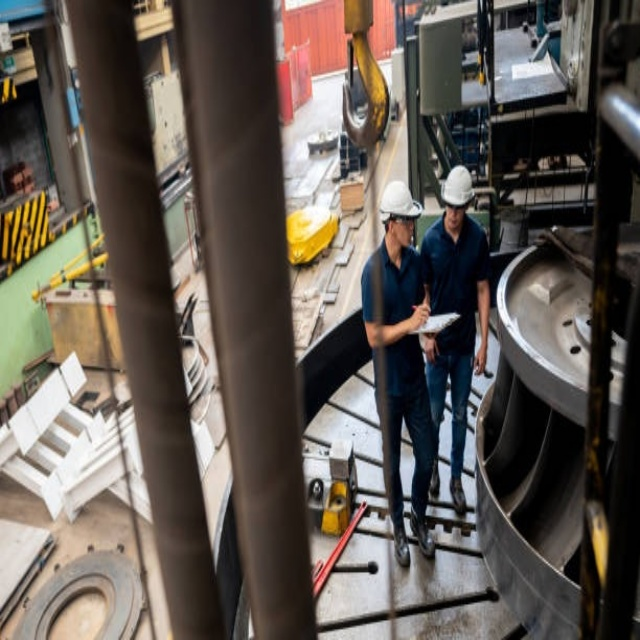Gafas: (394, 215, 415, 226), (445, 202, 466, 212)
Sin_guantes: (473, 341, 490, 375), (420, 335, 439, 365)
